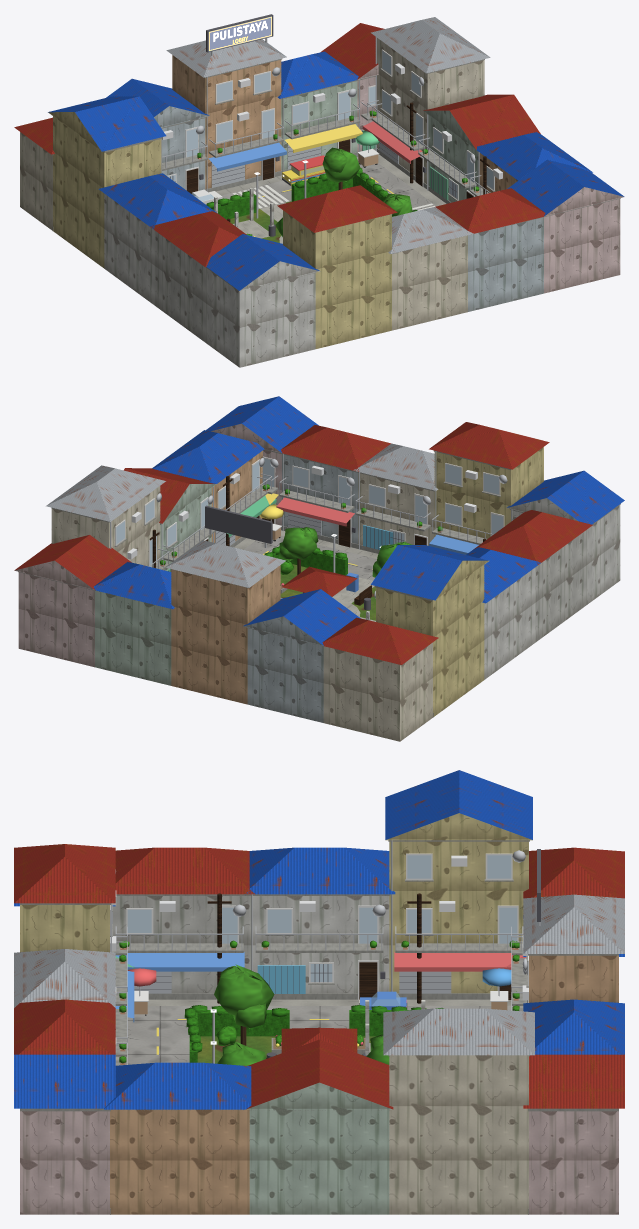
The model's file is lobby.glb.
3 renders of one model, top to bottom at view 1: azimuth 30°, elevation 25°; view 2: azimuth 150°, elevation 25°; view 3: azimuth 270°, elevation 25°, orthographic. The views are drawn at different scales.
Visible parts, largest first — view 1: Bldg_S_2, Bldg_N_3, Bldg_S_1, Bldg_W_3, Bldg_E_3, Bldg_S_5, Bldg_S_4, Bldg_S_3, Bldg_N_4, Bldg_E_2, Bldg_W_2, Bldg_W_1 (+8 smaller); view 2: Bldg_N_3, Bldg_W_3, Bldg_N_1, Bldg_S_2, Bldg_N_2, Bldg_N_5, Bldg_S_4, Bldg_N_4, Bldg_E_3, Bldg_S_3, Bldg_W_1, Bldg_S_1 (+7 smaller); view 3: Bldg_E_3, Bldg_W_3, Bldg_E_2, Bldg_E_1, Bldg_W_2, Bldg_W_1, Bldg_S_5, Bldg_N_5, Props, Bldg_S_2, Bldg_N_3, Ground_Surfaces (+6 smaller).
Part boxes in pixels (x1,y1,x2,y2): Bldg_S_2: [277, 185, 397, 348]; Bldg_N_3: [166, 39, 286, 192]; Bldg_S_1: [206, 234, 319, 367]; Bldg_W_3: [48, 96, 166, 268]; Bldg_E_3: [362, 17, 490, 188]; Bldg_S_5: [507, 159, 624, 293]; Bldg_S_4: [435, 188, 545, 311]; Bldg_S_3: [388, 207, 473, 330]; Bldg_N_4: [277, 51, 362, 174]; Bldg_E_2: [418, 94, 540, 203]; Bldg_W_2: [98, 173, 217, 305]; Bldg_W_1: [150, 211, 246, 342]; Bldg_N_3: [165, 540, 285, 704]; Bldg_W_3: [371, 545, 489, 716]; Bldg_N_1: [322, 617, 438, 741]; Bldg_S_2: [429, 422, 549, 554]; Bldg_N_2: [243, 589, 360, 722]; Bldg_N_5: [14, 535, 131, 667]; Bldg_S_4: [276, 425, 390, 548]; Bldg_N_4: [94, 562, 174, 685]; Bldg_E_3: [46, 465, 169, 570]; Bldg_S_3: [353, 443, 438, 553]; Bldg_W_1: [473, 510, 592, 641]; Bldg_S_1: [507, 470, 624, 604]; Bldg_E_3: [383, 1008, 534, 1214]; Bldg_W_3: [385, 770, 532, 999]; Bldg_E_2: [246, 1039, 393, 1214]; Bldg_E_1: [104, 1062, 251, 1214]; Bldg_W_2: [245, 847, 395, 999]; Bldg_W_1: [112, 847, 254, 999]; Bldg_S_5: [14, 1054, 115, 1214]; Bldg_N_5: [523, 1054, 624, 1214]; Props: [127, 893, 511, 1065]; Bldg_S_2: [14, 844, 134, 1022]; Bldg_N_3: [511, 894, 624, 1011]; Ground_Surfaces: [115, 999, 523, 1064].
Size of what is drawn, in the model's own units: 30.6 by 12.12 by 30.6.
Materials: 60 (25 with a texture image).
